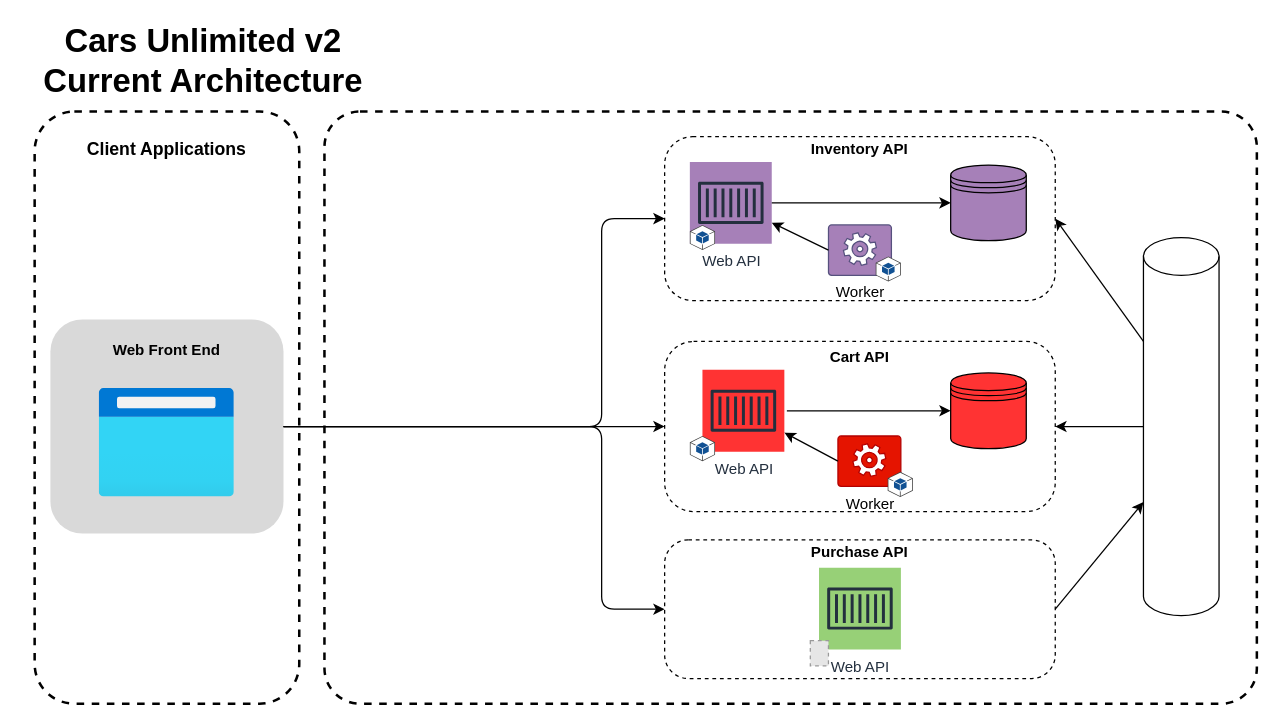
This 1279x726 diagram has some shape labels left out. Grey dashed boxes stand in for pictures. Each missing label, with the centre of its shape:
"MongoDB" goes at point (987, 202).
"Redis" goes at point (987, 410).
"Service Bus" goes at point (1180, 426).
